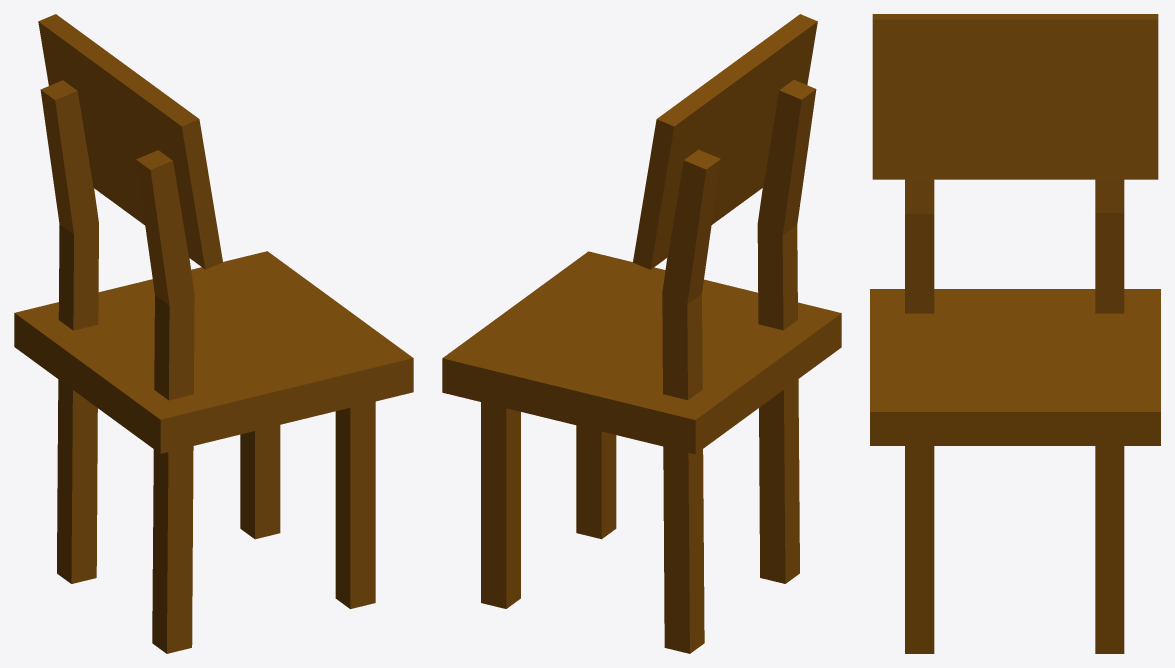
Rendered from LowPoly_Chair01.fbx.
The picture shows the model from 3 angles, left to right: view 1: azimuth 30°, elevation 25°; view 2: azimuth 150°, elevation 25°; view 3: azimuth 270°, elevation 25°; orthographic projection.
Visible parts, largest first — view 1: Cube; view 2: Cube; view 3: Cube.
Part boxes in pixels (x1=…): Cube: x1=14, y1=14, x2=413, y2=653; Cube: x1=442, y1=14, x2=841, y2=653; Cube: x1=870, y1=14, x2=1160, y2=653.
Bounding box in the file's own units: 78.15 × 160 × 78.15.
